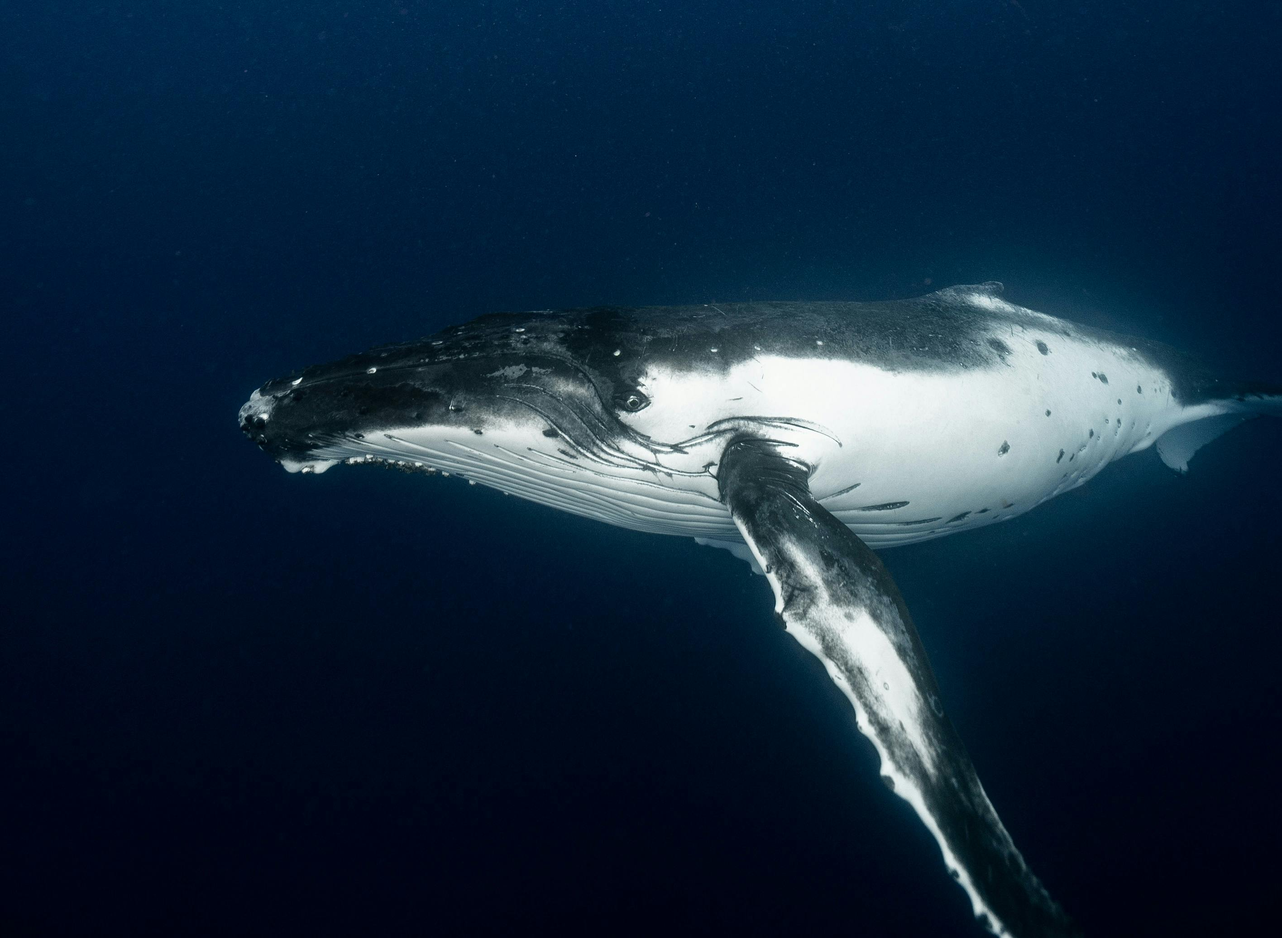whale: (232, 300, 1263, 928)
